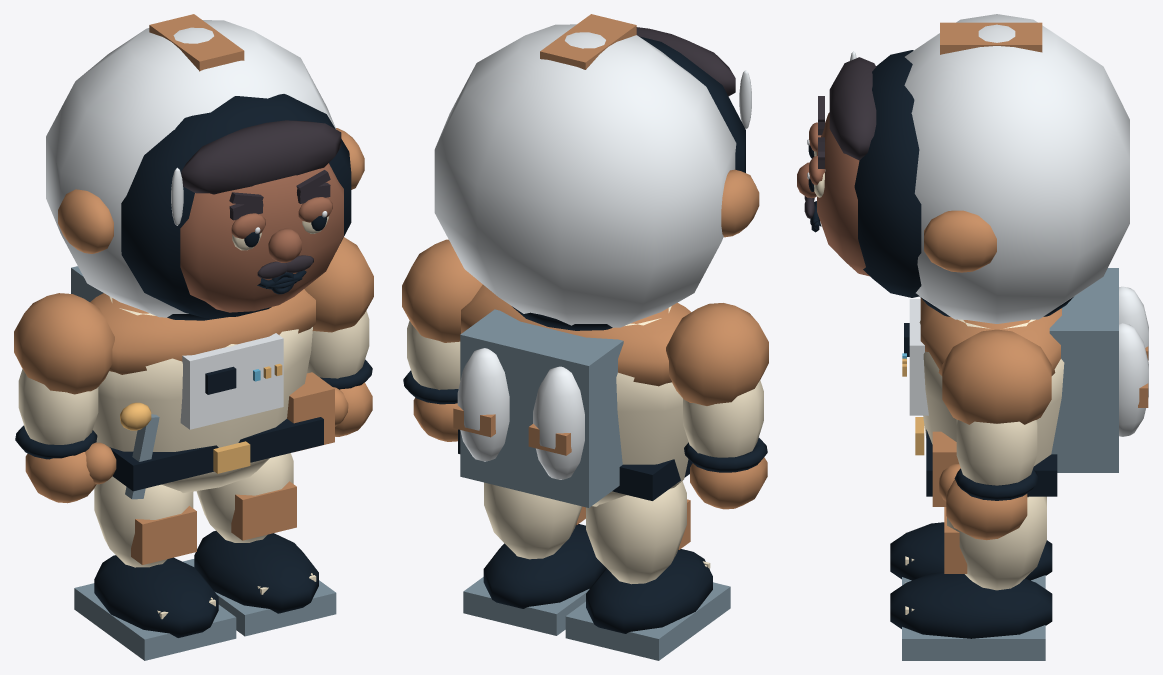
Rendered from crew-sol.glb.
3 renders of one model, left to right at view 1: azimuth 30°, elevation 25°; view 2: azimuth 150°, elevation 25°; view 3: azimuth 270°, elevation 25°, orthographic. The views are drawn at different scales.
Parts seen in each view (by area): view 1: helmet-shell, boot (×2), visor-gasket, face, shoulder (×2), pressure-suit, shoulder-yoke, hairline, leg-pressure (×2), sleeve (×2), sole (×2), chest-panel (+16 smaller); view 2: helmet-shell, life-pack, shoulder (×2), boot (×2), leg-pressure (×2), air-cell (×2), sole (×2), sleeve (×2), pressure-suit, shoulder-yoke, glove (×2), helmet-crown (+8 smaller); view 3: helmet-shell, visor-gasket, boot (×2), life-pack, shoulder, sleeve, leg-pressure, face, hairline, sole, air-cell (×2), helmet-hinge (+9 smaller).
Part boxes in pixels (x1,y1,x2,y2): helmet-shell: (46,20,336,317); boot (×2): (94,531,318,637); visor-gasket: (121,94,351,317); face: (180,163,343,312); shoulder (×2): (14,237,373,394); pressure-suit: (93,296,312,492); shoulder-yoke: (90,289,315,374); hairline: (181,120,341,194); leg-pressure (×2): (94,453,293,567); sleeve (×2): (18,310,369,444); sole (×2): (74,559,336,660); chest-panel: (180,333,283,429); helmet-shell: (434,24,736,327); life-pack: (460,309,623,507); shoulder (×2): (402,239,768,405); boot (×2): (483,524,712,633); leg-pressure (×2): (484,481,686,584); air-cell (×2): (457,348,584,479); sole (×2): (463,577,730,660); sleeve (×2): (407,320,763,457); pressure-suit: (592,306,688,506); shoulder-yoke: (461,284,691,386); glove (×2): (413,397,767,509); helmet-crown: (540,14,636,69); helmet-shell: (904,14,1129,323); visor-gasket: (854,50,921,297); boot (×2): (890,522,1052,638); life-pack: (1049,268,1118,472); shoulder: (942,329,1051,424); sleeve: (956,420,1037,485); leg-pressure: (947,496,1046,590); face: (817,112,869,276); hairline: (829,57,876,160); sole: (902,625,1045,660); air-cell (×2): (1119,286,1148,436); helmet-hinge: (924,210,996,272).
Bounding box in the file's own units: 1.59 × 2.51 × 1.37.
